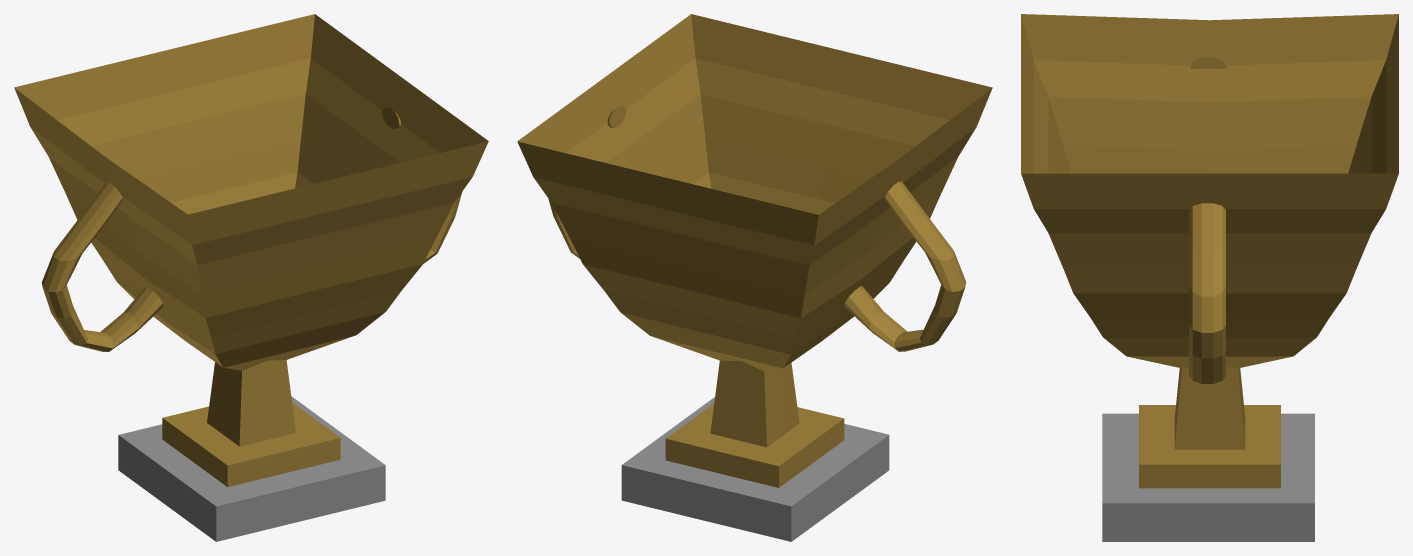
Rendered from trophy.fbx.
3 renders of one model, left to right at view 1: azimuth 30°, elevation 25°; view 2: azimuth 150°, elevation 25°; view 3: azimuth 270°, elevation 25°, orthographic. The views are drawn at different scales.
Visible parts, largest first — view 1: Cube.011; view 2: Cube.011; view 3: Cube.011.
Part boxes in pixels (x1,y1,x2,y2): Cube.011: (14,14,488,541); Cube.011: (517,14,992,541); Cube.011: (1021,14,1398,541).
Bounding box in the file's own units: 978 × 836 × 711.
